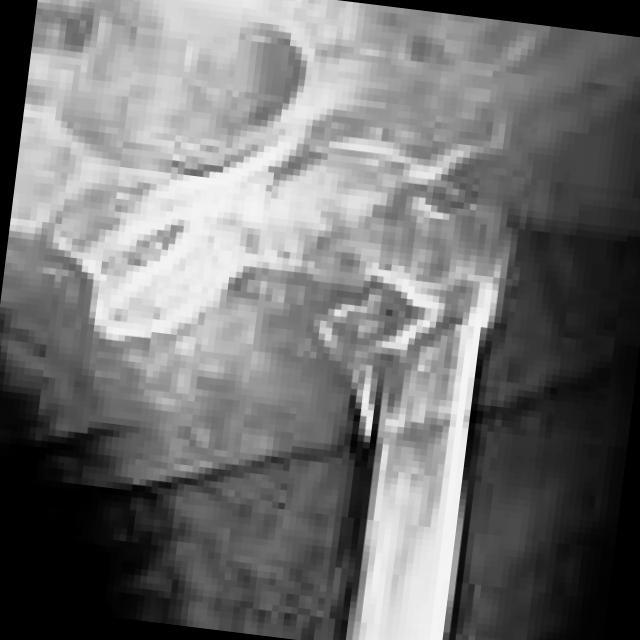Comminuted Fracture: (334, 359, 402, 433)
